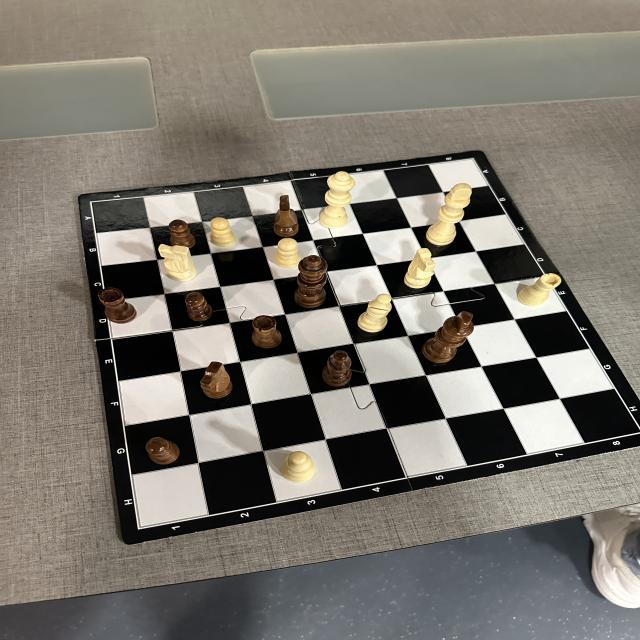Black-Bishop: (321, 350, 352, 387)
Black-King: (422, 311, 474, 363)
Black-Knight: (200, 361, 234, 400), (274, 194, 300, 239)
Black-Pawn: (145, 437, 181, 465), (185, 292, 212, 321), (170, 220, 196, 248)
Black-Queen: (298, 254, 326, 307)
Black-Rook: (99, 288, 136, 324), (251, 315, 283, 349)
White-Bishop: (357, 294, 392, 332), (282, 450, 314, 482)
White-King: (427, 182, 472, 246)
White-Knight: (159, 243, 196, 282), (404, 247, 434, 289)
White-Pawn: (210, 217, 236, 246), (275, 239, 301, 268)
White-Queen: (320, 172, 354, 228)
White-Rook: (517, 272, 562, 306)
